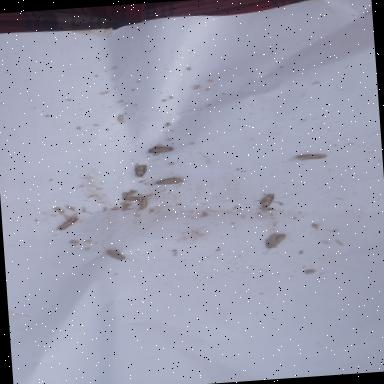pbw: (260, 232, 288, 254), (102, 245, 132, 263), (54, 212, 80, 231), (143, 176, 183, 186), (256, 192, 277, 210), (292, 152, 327, 160), (132, 162, 148, 178), (146, 145, 174, 154), (122, 195, 140, 203), (138, 195, 148, 208)
